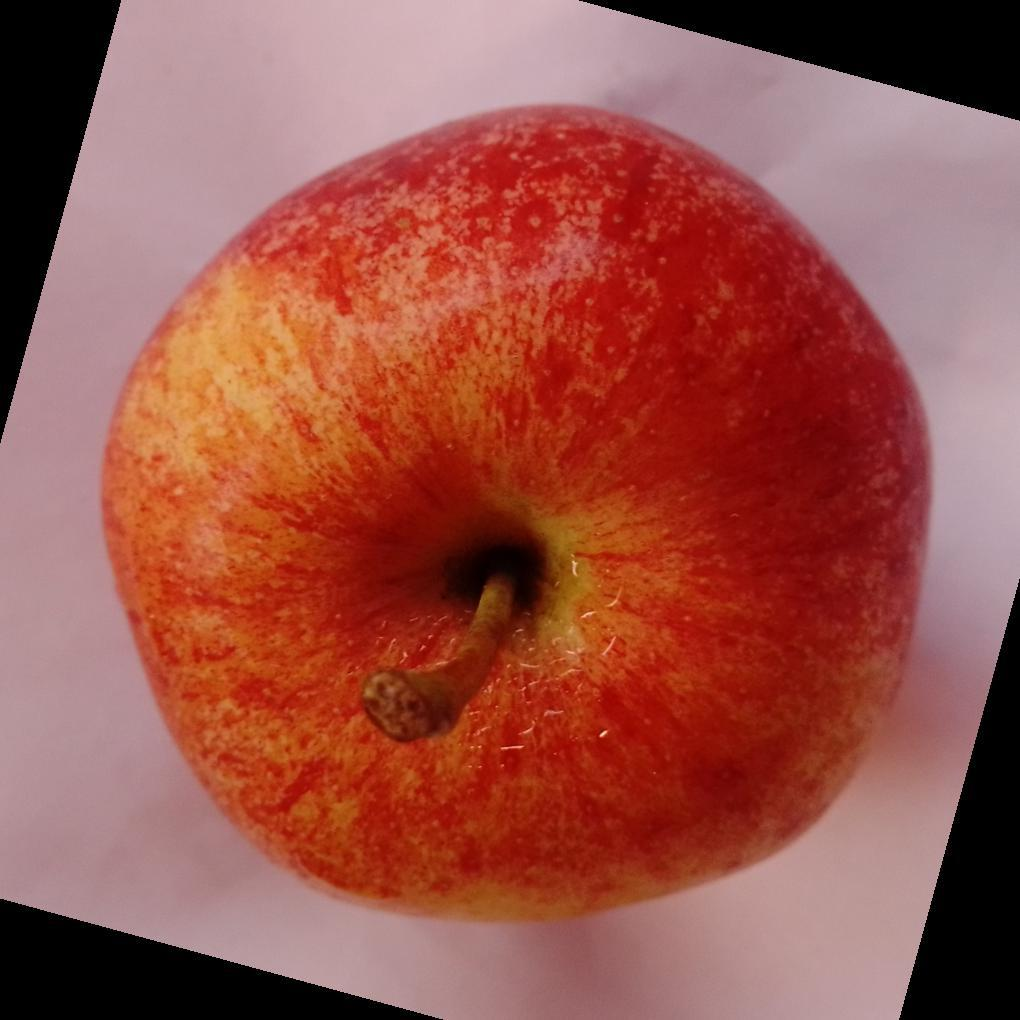FreshGuava: (96, 105, 935, 929)
